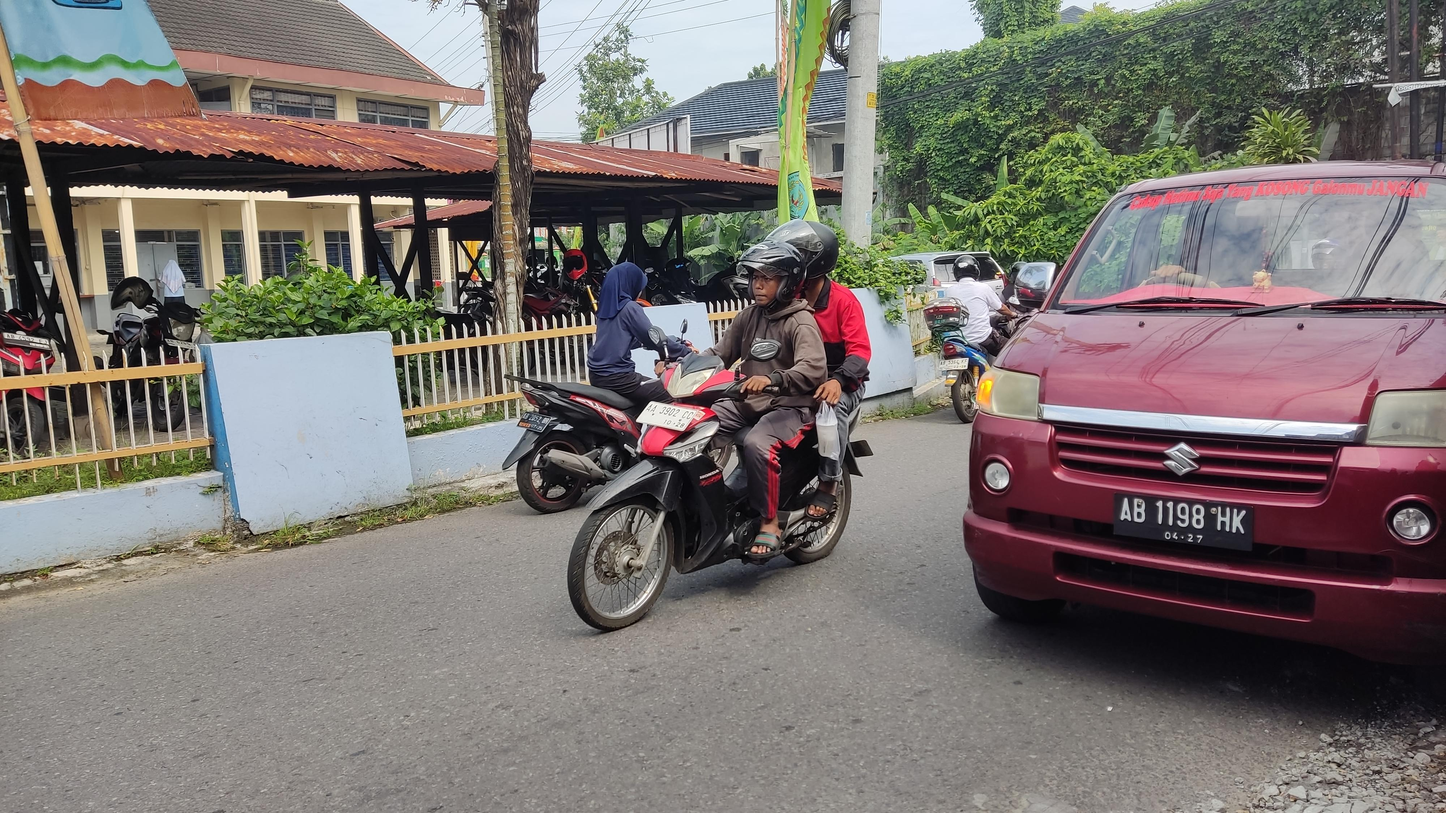helm: (734, 239, 809, 311), (765, 218, 842, 285)
riding: (565, 218, 878, 634)
